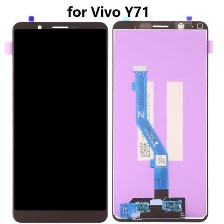phone: (10, 19, 110, 224), (111, 17, 210, 223)
